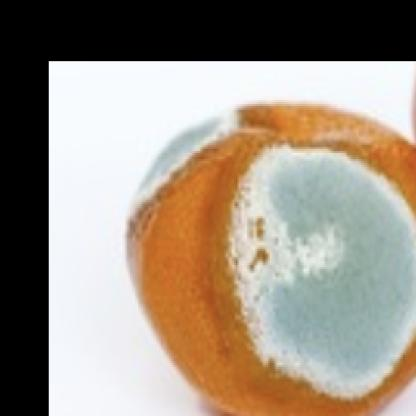rotten: (121, 102, 416, 416)
